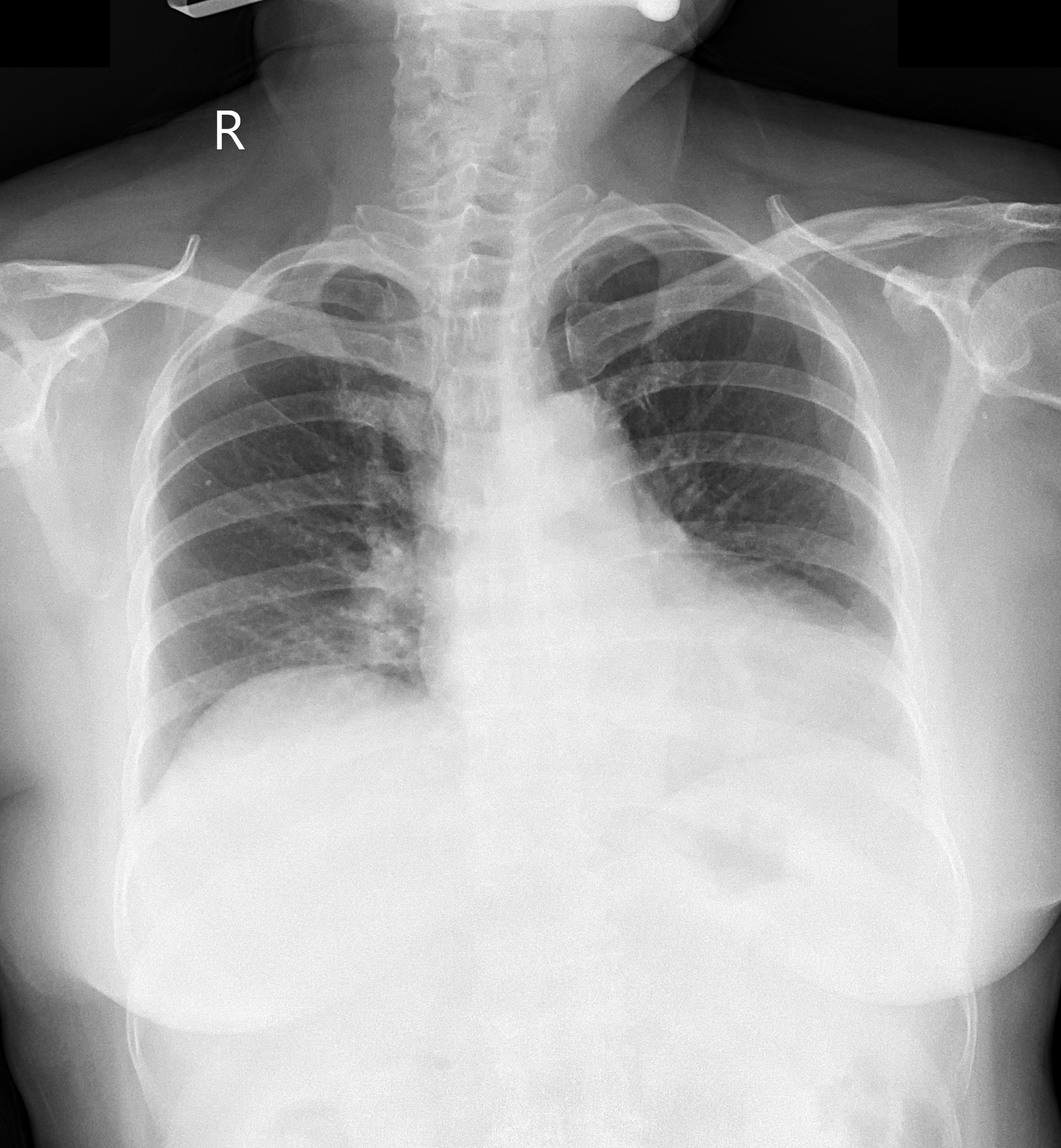Aortic enlargement: (507, 395, 652, 496)
Cardiomegaly: (412, 597, 912, 730)
